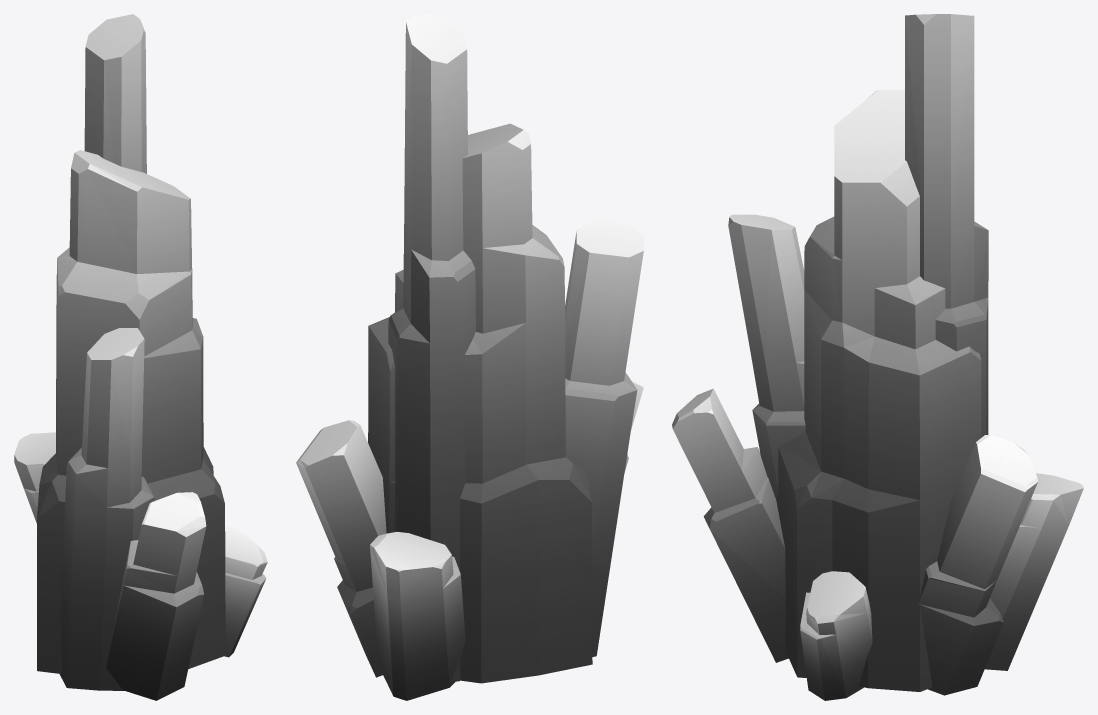
The model's file is CrystalCubeCluster_B.fbx.
3 views of the same model, side by side, from view 1: azimuth 30°, elevation 25°; view 2: azimuth 150°, elevation 25°; view 3: azimuth 270°, elevation 25° (orthographic). The views are drawn at different scales.
Parts seen in each view (by area): view 1: CrystalCubeCluster_B; view 2: CrystalCubeCluster_B; view 3: CrystalCubeCluster_B.
Boxes of the visible parts, x1,y1,x2,y2 form: CrystalCubeCluster_B: [14, 14, 267, 700]; CrystalCubeCluster_B: [296, 14, 643, 700]; CrystalCubeCluster_B: [672, 14, 1083, 700].
Size of the model in its own units: 199 by 544 by 303.
1 material, 1 textured.
